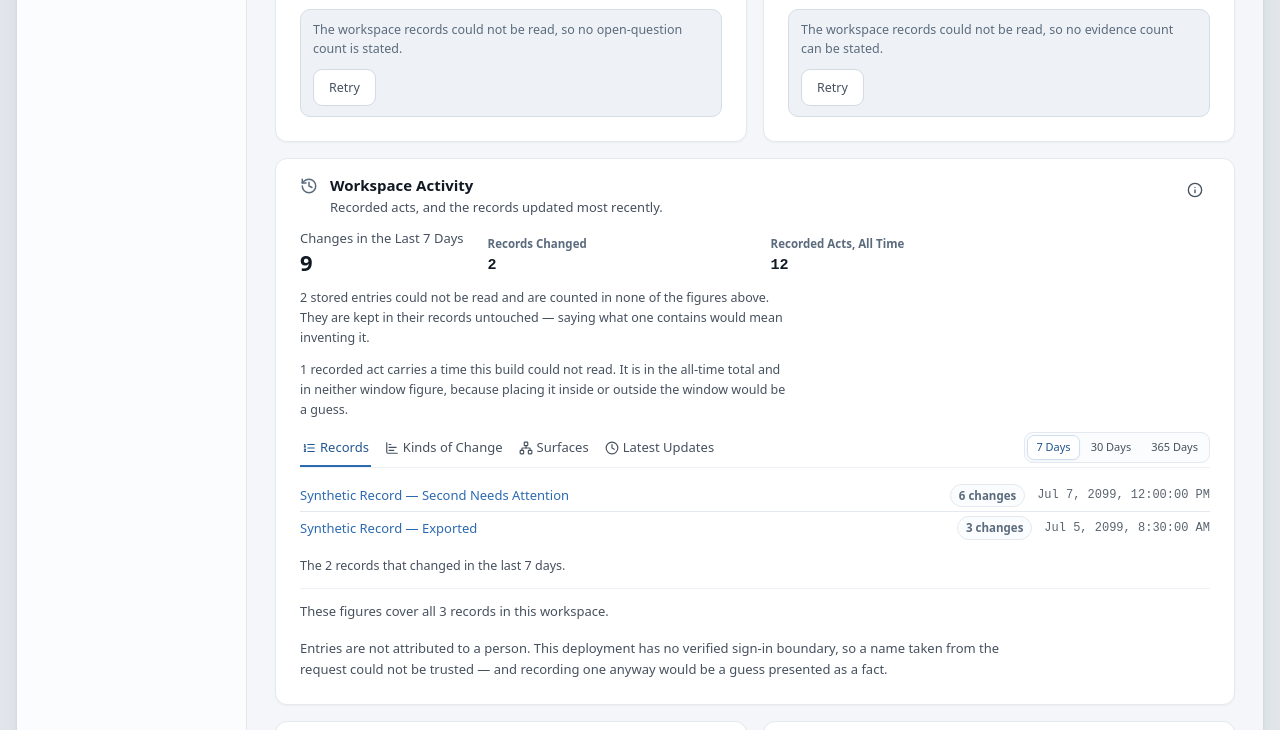
it: partial failure — one dead source degrades only what reads it › alarms ONCE PER DEAD SOURCE — not once per section, and not once per tab
(page scrolled)
Expected: the 1st element with class "stats-unavailable" is shown, [300,9,722,117]
Expected: the 2nd element with class "stats-unavailable" is shown, [788,9,1210,117]
What coordinates should you click on to do the following:
click the tab "Latest Updates"
I would click on:
 (659, 451)
Its box is [603,435,716,467].
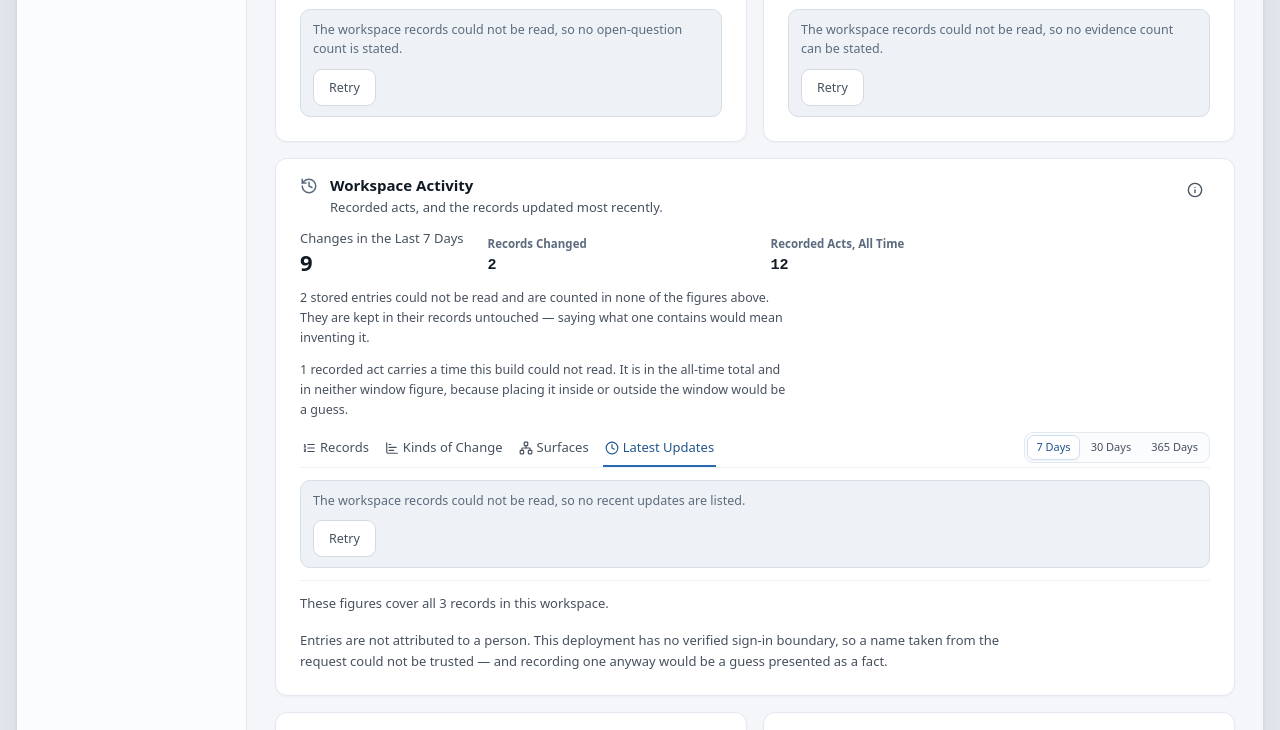
Expected: the button "Retry" below "Records Changed" is shown, [313,520,376,557]
